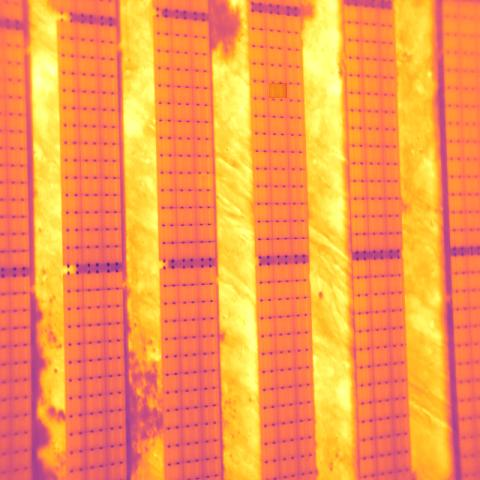fault: (269, 83, 287, 98)
